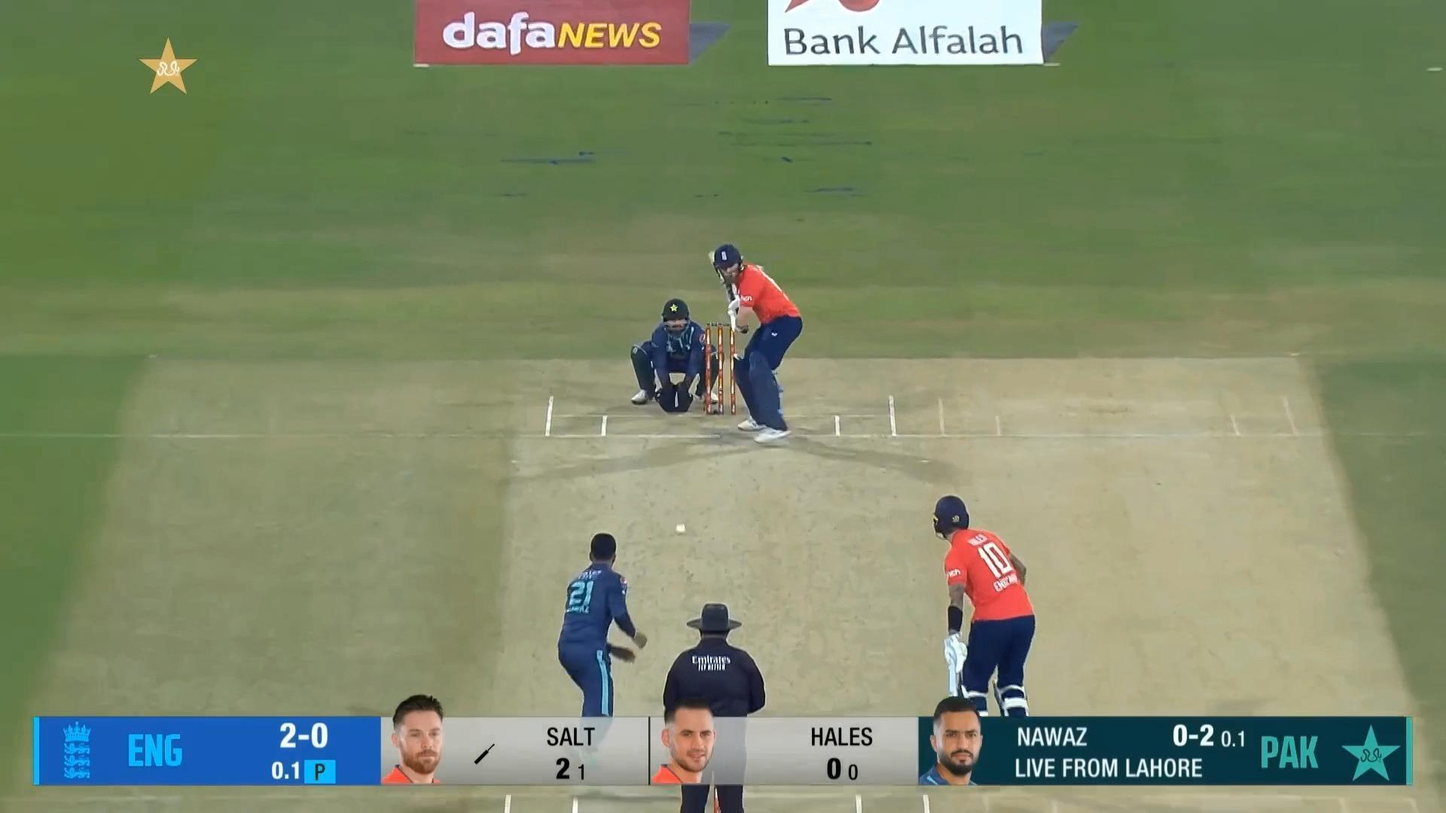BM 1: (707, 244, 803, 444)
BO: (556, 532, 648, 717)
